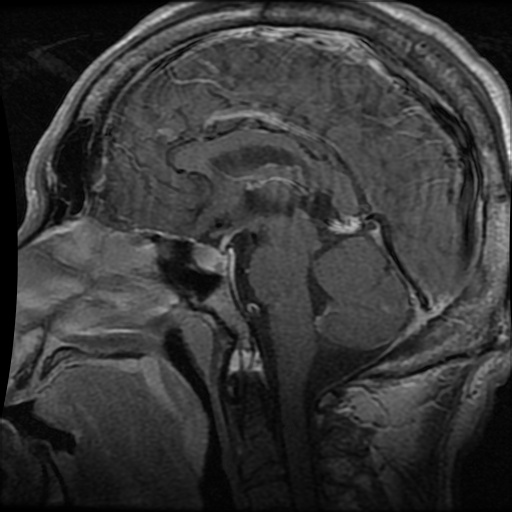pituitary: (195, 246, 227, 269)
